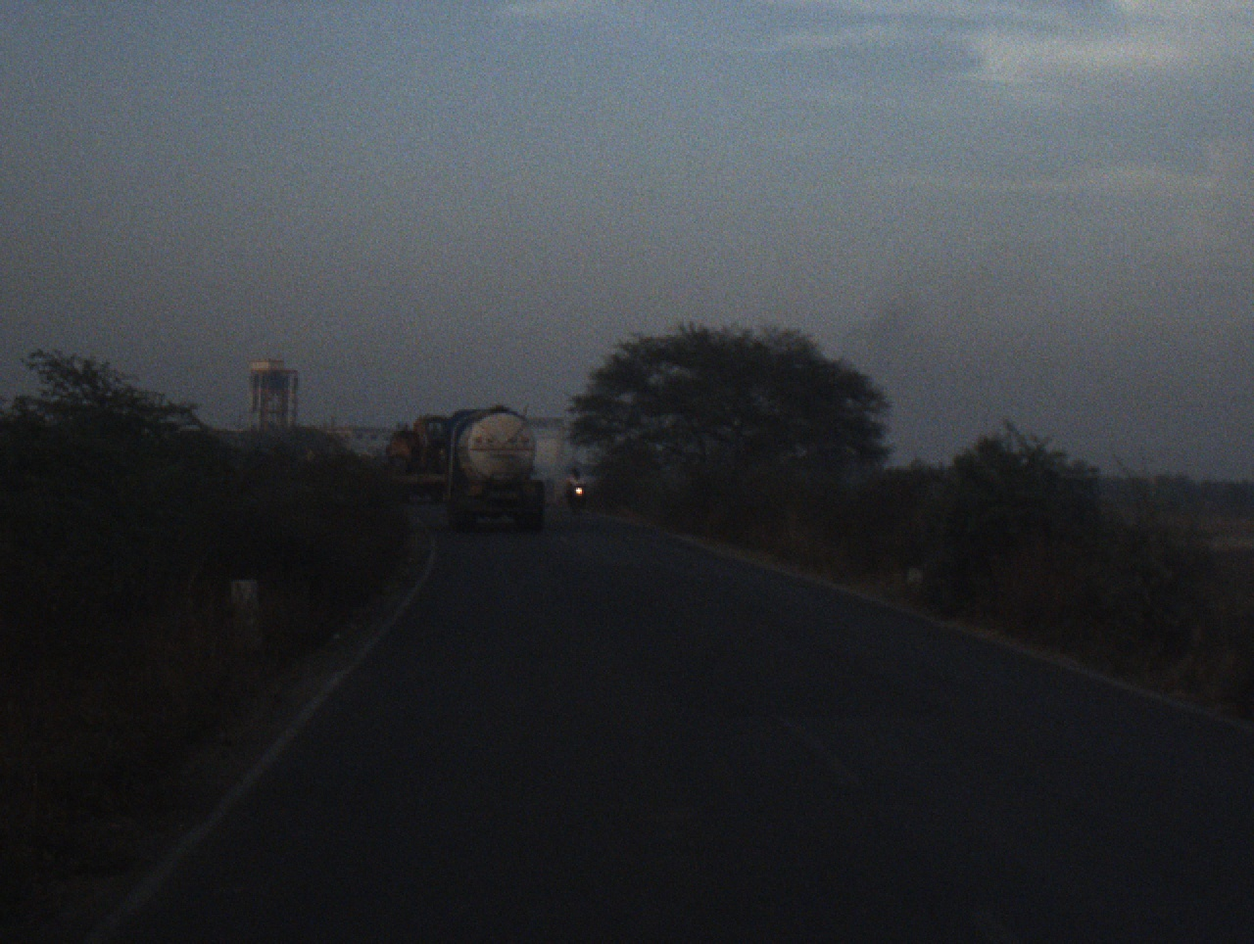motorcycle: (572, 487, 583, 509)
rider: (567, 464, 581, 489)
truck: (447, 402, 551, 537)
vehicle fallback: (386, 411, 453, 506)
